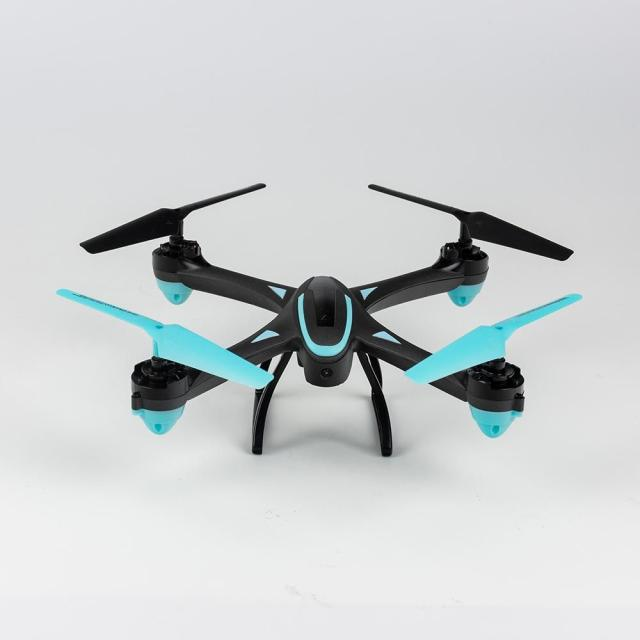drone: (5, 146, 640, 493)
